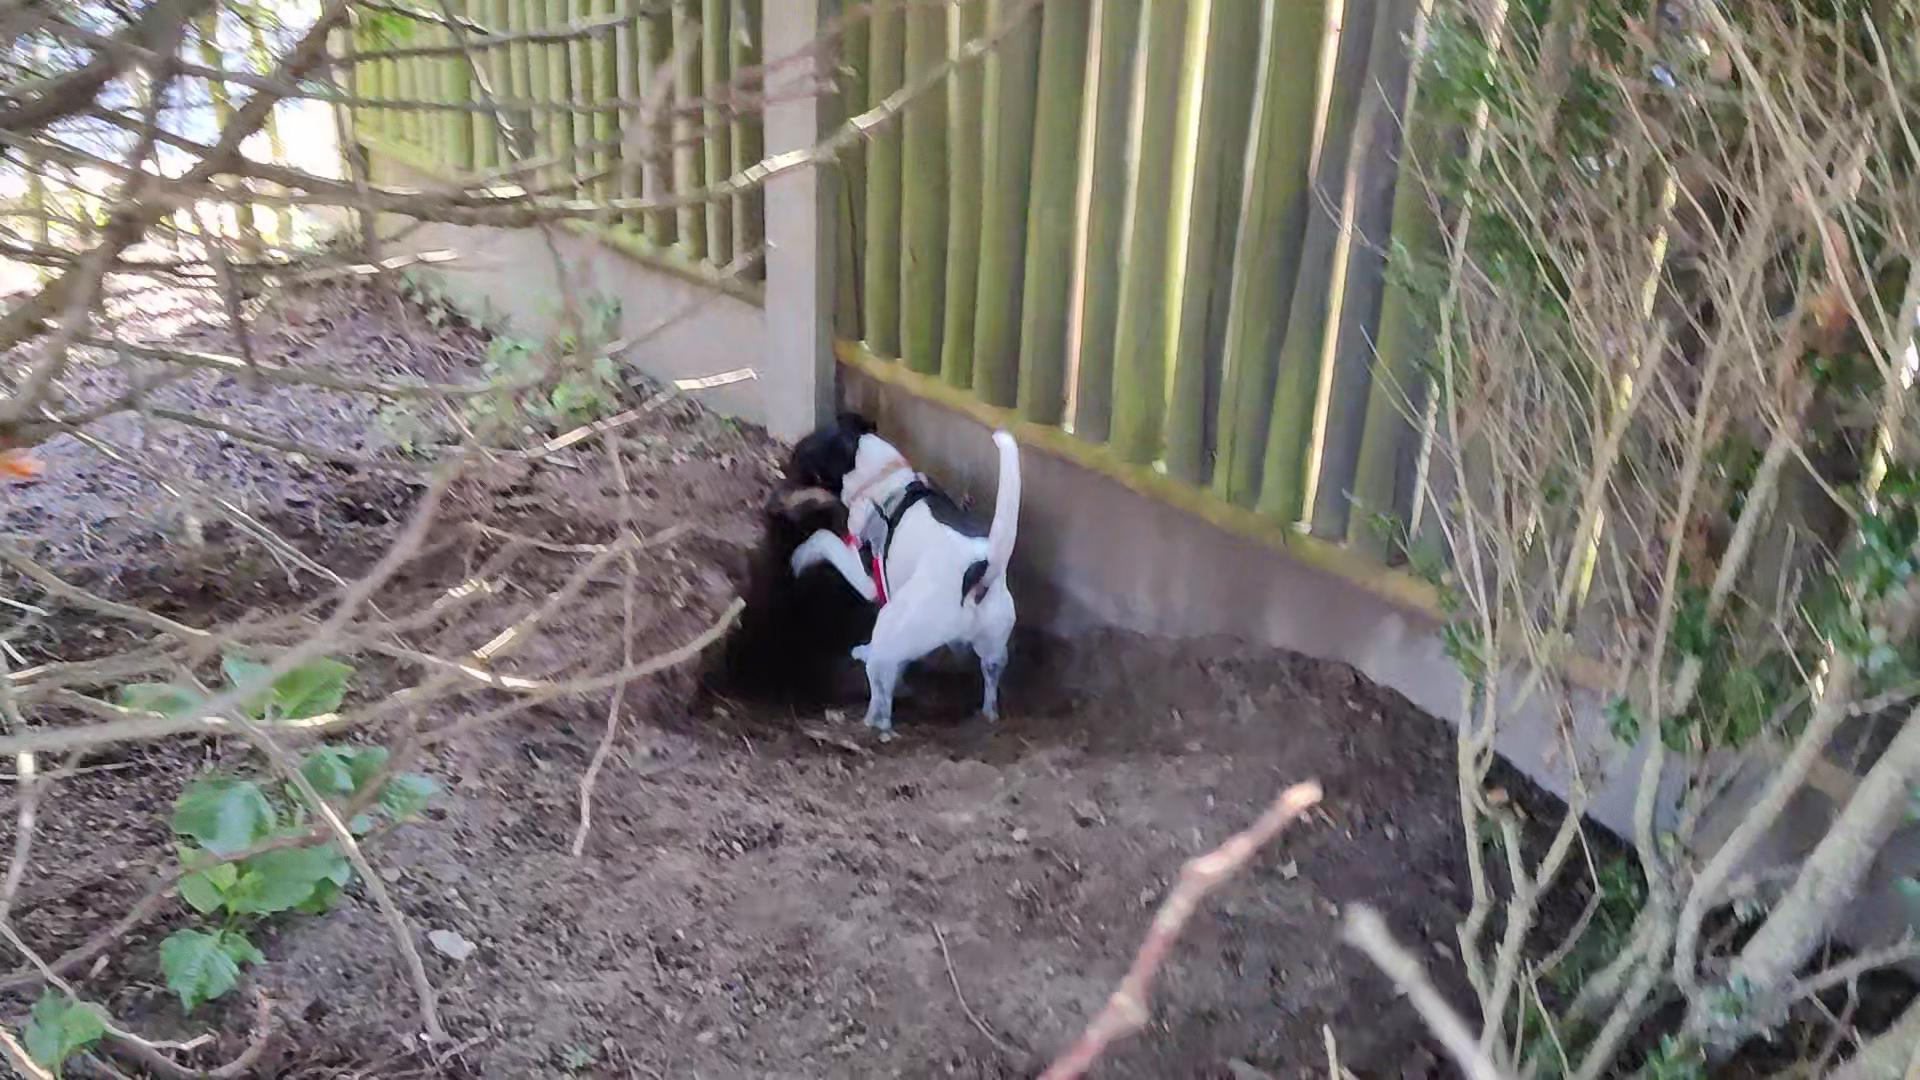Dog: (767, 378, 1033, 744)
